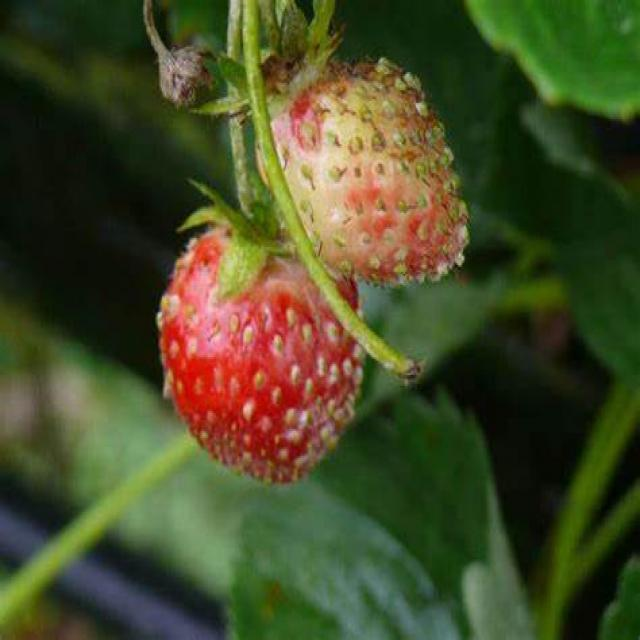Oído: (150, 209, 363, 490), (228, 47, 470, 285)
